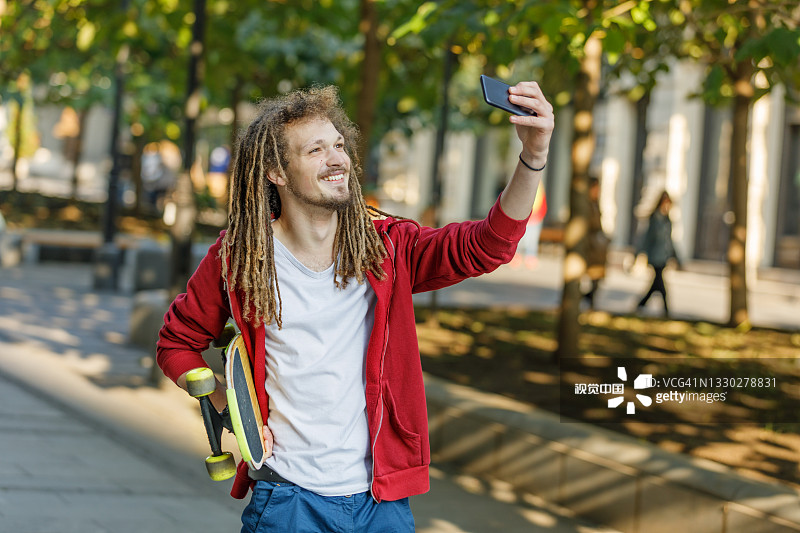taking photos: (471, 57, 578, 173)
